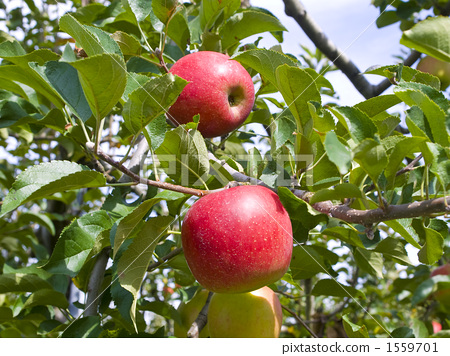apple: (182, 185, 292, 293)
obscured(1)_apple: (165, 51, 256, 139)
